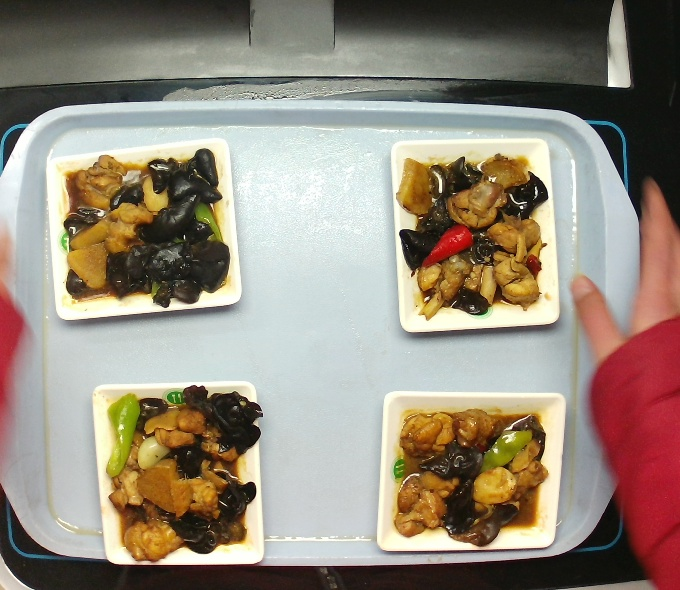wcq-MuErJiRou: (392, 144, 558, 323), (60, 143, 233, 312), (101, 380, 262, 561), (388, 391, 550, 550)
